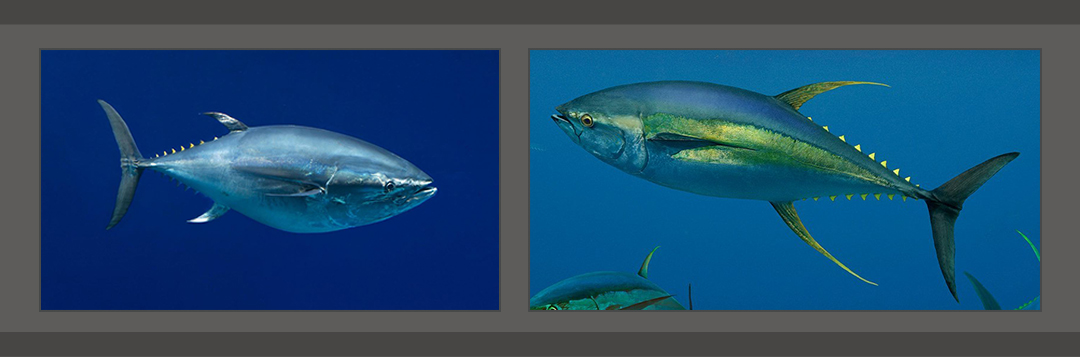Bluefina Tuna: (87, 59, 1028, 306)
